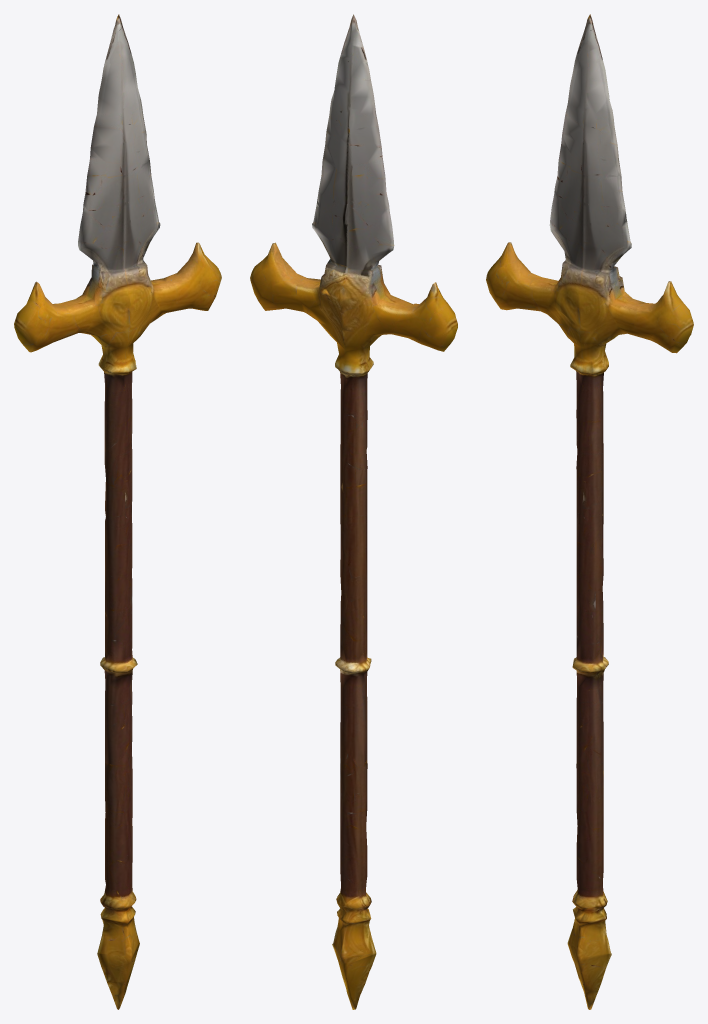
File: 1599_spear.glb
3 renders of one model, left to right at view 1: azimuth 30°, elevation 25°; view 2: azimuth 150°, elevation 25°; view 3: azimuth 330°, elevation 25°, orthographic.
Parts seen in each view (by area): view 1: Model; view 2: Model; view 3: Model.
Part boxes in pixels (x1,y1,x2,y2): Model: (14,14,221,1009); Model: (250,14,457,1009); Model: (486,14,693,1009).
Bounding box in the file's own units: 0.2162 × 1 × 0.0445.
1 material, 1 textured.
